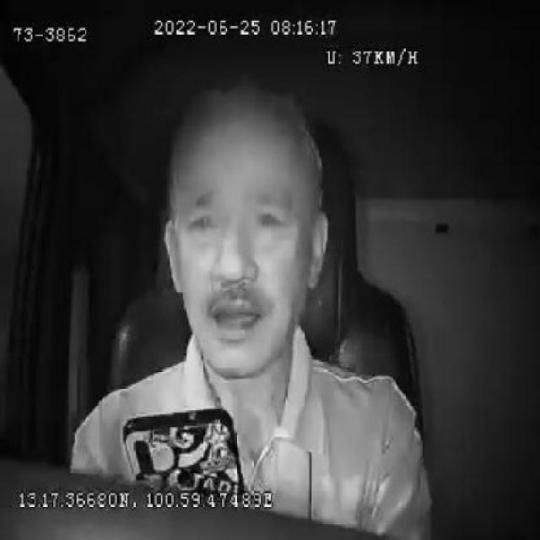phone: (122, 408, 244, 489)
